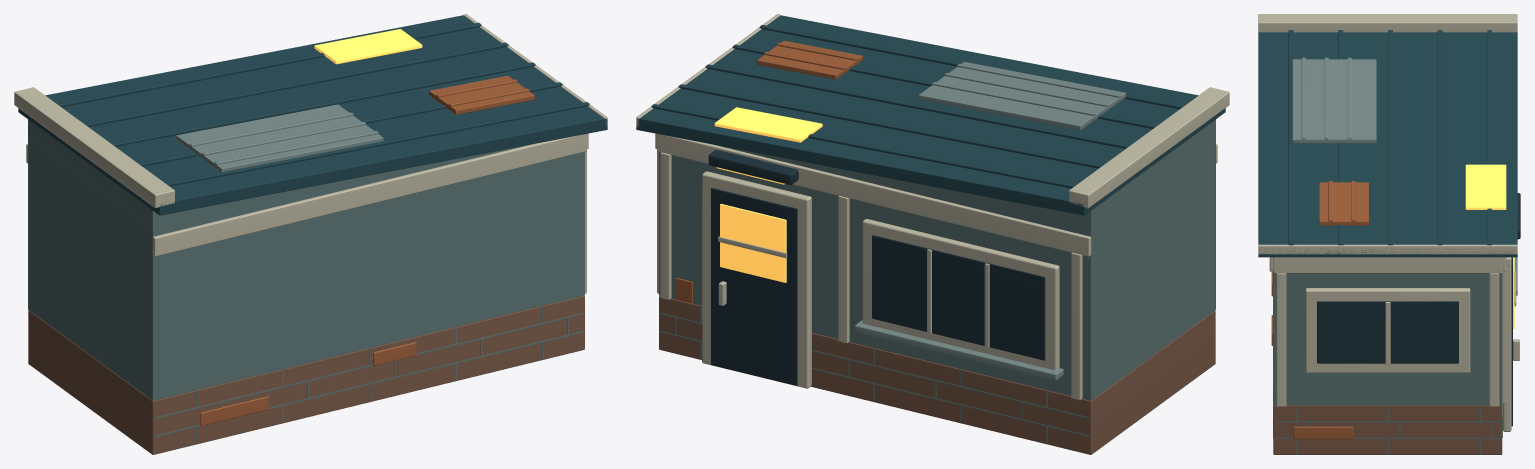
File: d08_workshop_buildings_04.glb
The picture shows the model from 3 angles, left to right: view 1: azimuth 30°, elevation 25°; view 2: azimuth 150°, elevation 25°; view 3: azimuth 270°, elevation 25°; orthographic projection. The views are drawn at different scales.
Parts seen in each view (by area): view 1: D08WorkshopBuildings04_Mesh; view 2: D08WorkshopBuildings04_Mesh; view 3: D08WorkshopBuildings04_Mesh.
Part boxes in pixels (<box>): D08WorkshopBuildings04_Mesh: <box>14,14,607,454</box>; D08WorkshopBuildings04_Mesh: <box>636,14,1229,454</box>; D08WorkshopBuildings04_Mesh: <box>1258,14,1520,454</box>.
Size of the model in its own units: 6.28 by 3.55 by 3.44.
